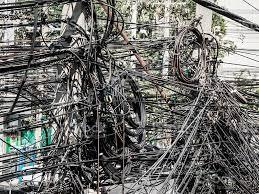wires-only: (0, 1, 259, 194)
